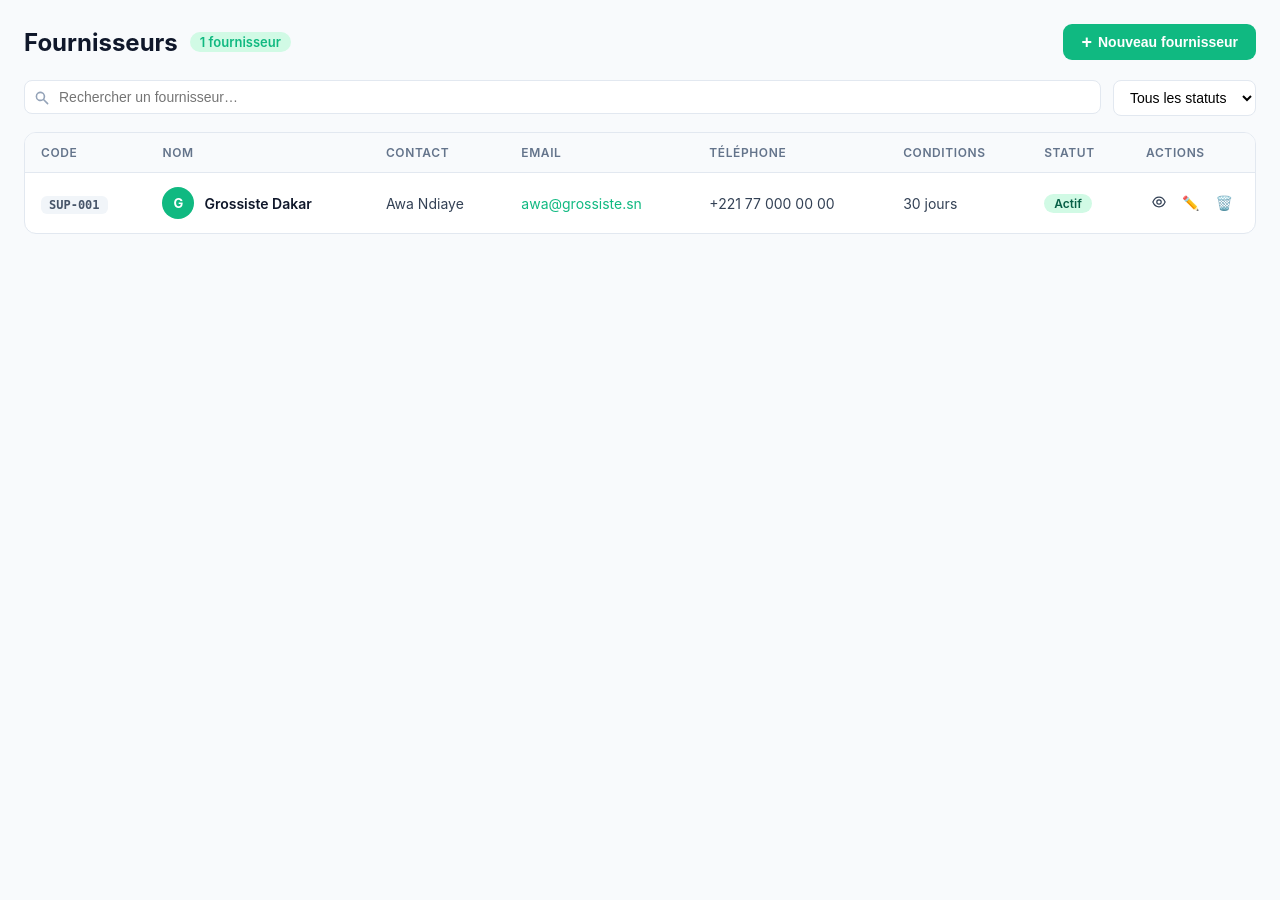
SupplierListView › opens the create form in a shared BaseModal dialog (UX-03)
Step 1. Click the button "+ Nouveau fournisseur" → [1160, 42], box x1=1064 y1=24 x2=1256 y2=60
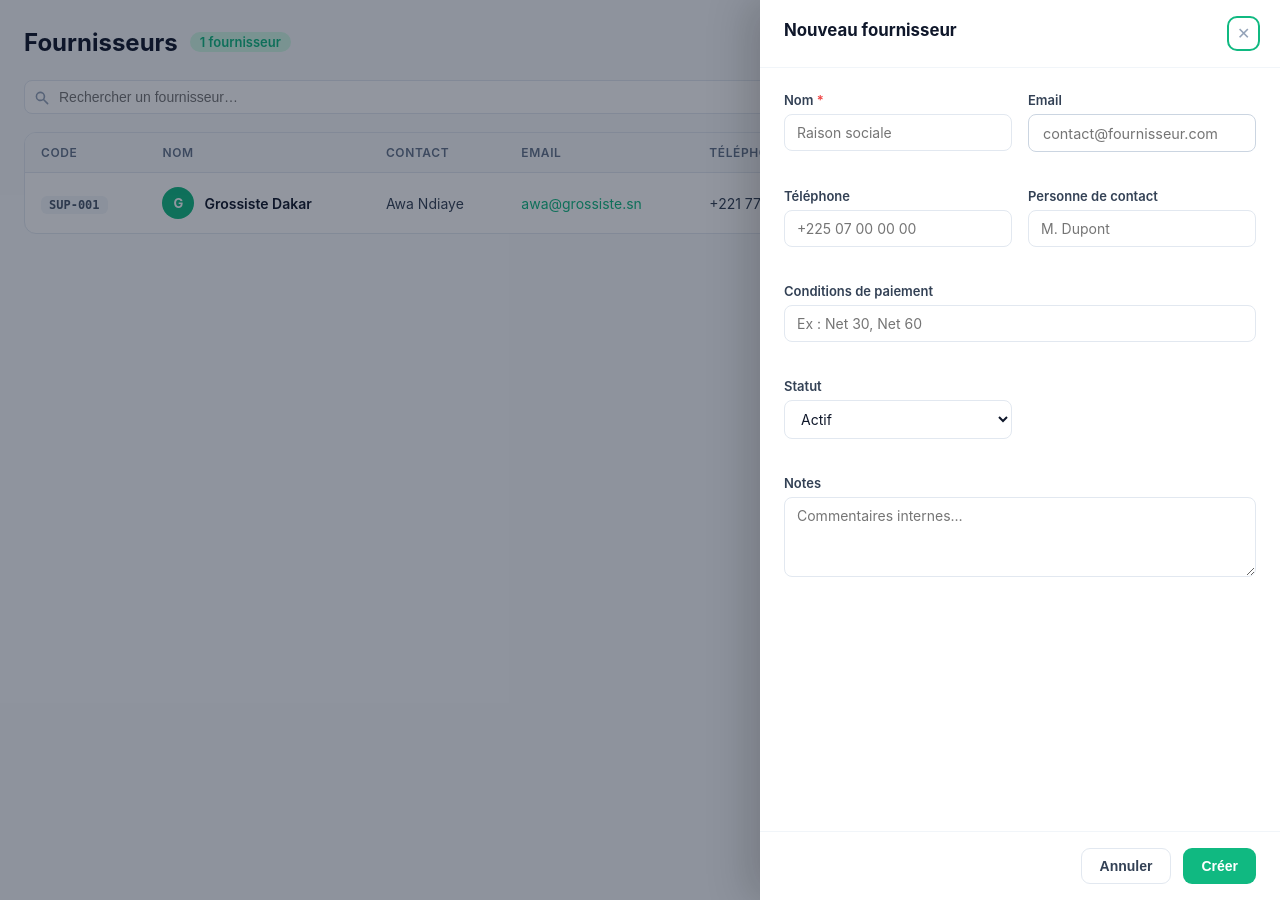
Result: the dialog is shown at x1=760 y1=0 x2=1279 y2=899
Result: the dialog shows "Nouveau fournisseur" at x1=784 y1=20 x2=957 y2=40
Result: the button "Créer" is shown at x1=1183 y1=848 x2=1256 y2=884
